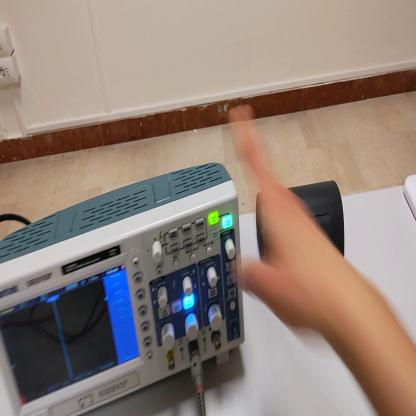hand: (229, 102, 331, 333)
oscilloscope: (1, 164, 245, 415)
